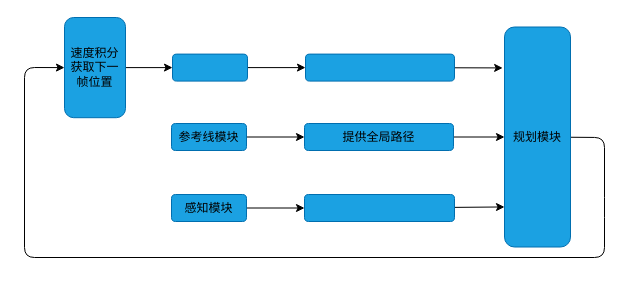
The diagram is 630 pixels wide and 283 high, and some of its shapes have lost their labels. The centre of each missing label's shape, as x and y in pixels:
定位模块: point 210,67
提供实时的自车位姿和状态: point 379,67
提供静态和动态障碍物: point 379,208
